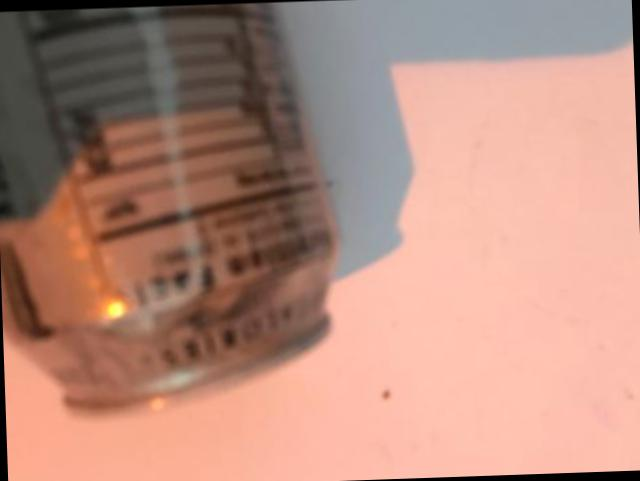metal: (0, 2, 336, 416)
